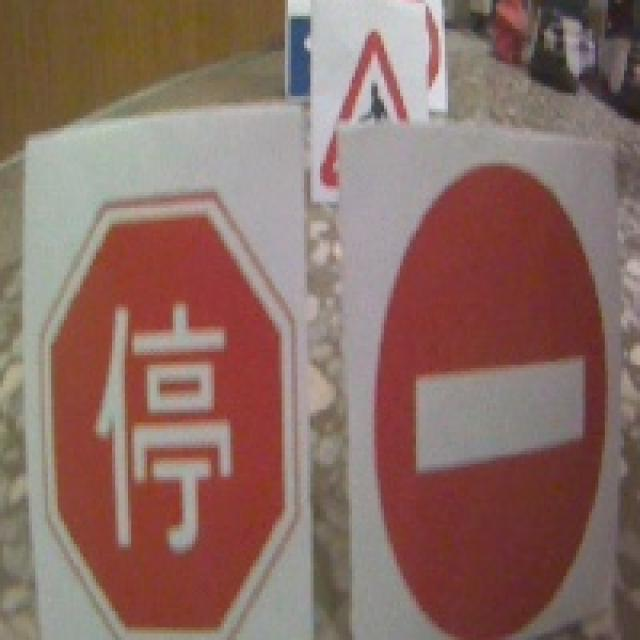DoNotEnterSign: (371, 163, 605, 640)
